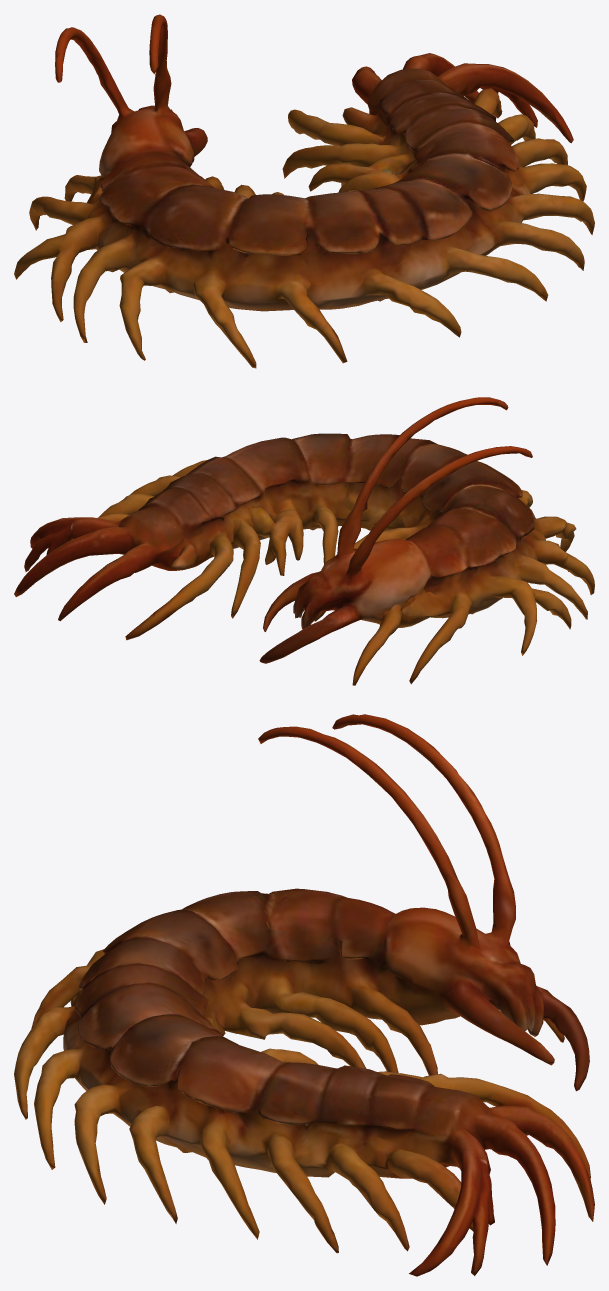
Rendered from centip.glb.
The picture shows the model from 3 angles, top to bottom: view 1: azimuth 30°, elevation 25°; view 2: azimuth 150°, elevation 25°; view 3: azimuth 270°, elevation 25°; orthographic projection. The views are drawn at different scales.
Parts seen in each view (by area): view 1: tripo_node_039b75d1-2f0c-47c8-98a1-e7aa67884d5b; view 2: tripo_node_039b75d1-2f0c-47c8-98a1-e7aa67884d5b; view 3: tripo_node_039b75d1-2f0c-47c8-98a1-e7aa67884d5b.
Part boxes in pixels (left/top/right/bottom): tripo_node_039b75d1-2f0c-47c8-98a1-e7aa67884d5b: left=14, top=14, right=594, bottom=368; tripo_node_039b75d1-2f0c-47c8-98a1-e7aa67884d5b: left=14, top=397, right=594, bottom=685; tripo_node_039b75d1-2f0c-47c8-98a1-e7aa67884d5b: left=14, top=714, right=594, bottom=1276.
Bounding box in the file's own units: 2.26 × 1 × 1.76.
1 material, 1 textured.
